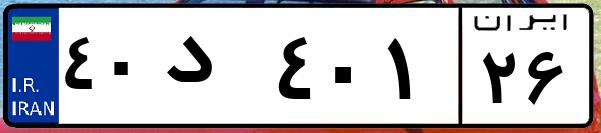0: (330, 28, 385, 110), (110, 28, 158, 98)
1: (385, 28, 445, 110)
2: (475, 38, 525, 113)
4: (270, 28, 330, 110), (57, 26, 110, 100)
6: (525, 38, 570, 115)
د: (158, 20, 270, 120)
